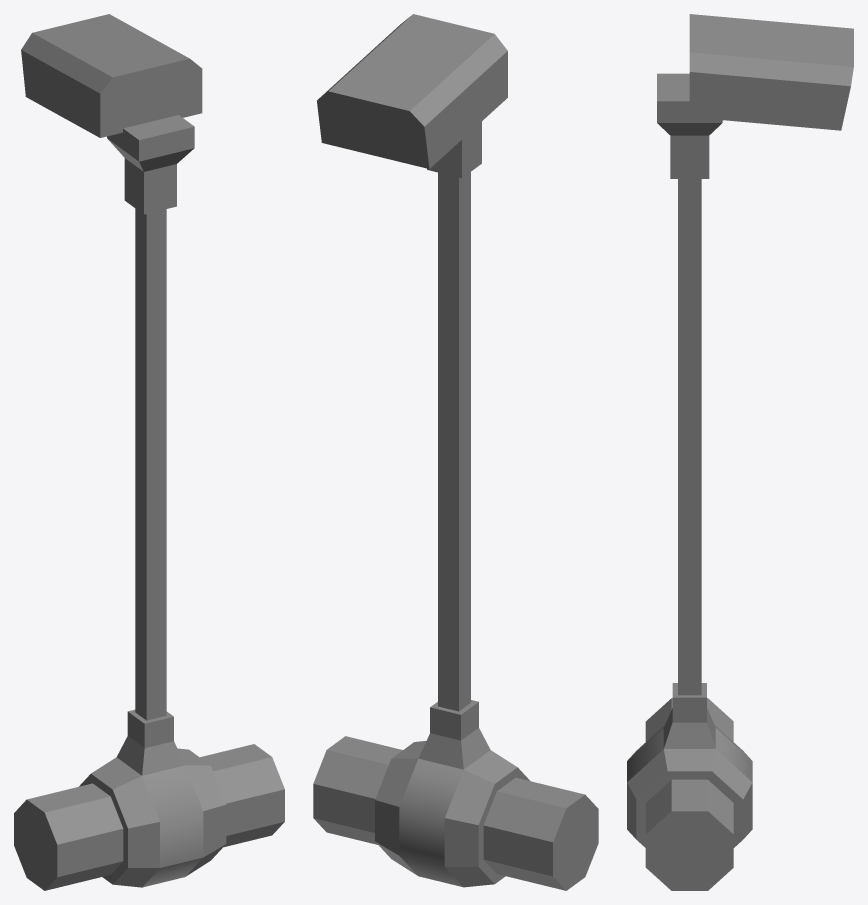
The model's file is Steam_BigFinish_Wheel.FBX.
3 renders of one model, left to right at view 1: azimuth 30°, elevation 25°; view 2: azimuth 150°, elevation 25°; view 3: azimuth 270°, elevation 25°, orthographic. The views are drawn at different scales.
Visible parts, largest first — view 1: Wheel_Spoke, Wheel_Rim, Wheel_Axel, Wheel_Center, Wheel_Spoke_End, Wheel_Spoke_Base; view 2: Wheel_Rim, Wheel_Spoke, Wheel_Axel, Wheel_Center, Wheel_Spoke_Base, Wheel_Spoke_End; view 3: Wheel_Rim, Wheel_Spoke, Wheel_Axel, Wheel_Center, Wheel_Spoke_End, Wheel_Spoke_Base.
Part boxes in pixels (x1,y1,x2,y2): Wheel_Spoke: (135,208,166,720); Wheel_Rim: (21,14,202,137); Wheel_Axel: (14,744,284,890); Wheel_Center: (79,748,226,887); Wheel_Spoke_End: (107,115,194,214); Wheel_Spoke_Base: (117,709,184,775); Wheel_Rim: (317,14,507,168); Wheel_Spoke: (438,172,470,711); Wheel_Axel: (313,736,598,890); Wheel_Center: (375,741,529,887); Wheel_Spoke_Base: (418,700,490,769); Wheel_Spoke_End: (427,121,481,178); Wheel_Rim: (689,14,853,130); Wheel_Spoke: (678,179,701,695); Wheel_Axel: (645,698,733,890); Wheel_Center: (627,725,752,847); Wheel_Spoke_End: (657,73,722,178); Wheel_Spoke_Base: (663,683,715,748).
Size of the model in its own units: 155 by 524 by 132.
1 material, 1 textured.
